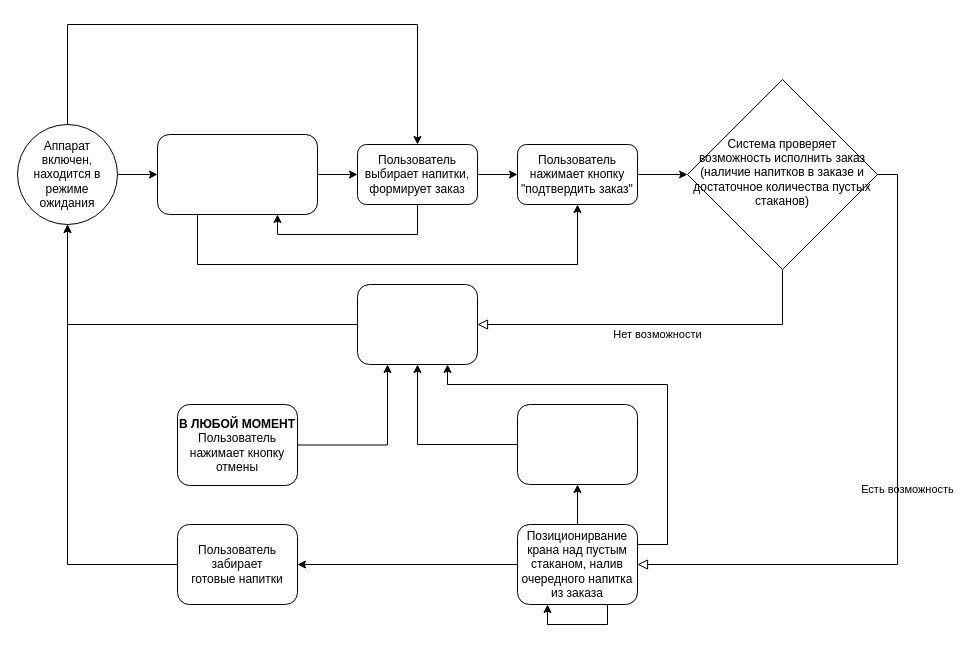
Image size: 971x650. Some labels were removed from this diagram. The centre of each missing label's shape, as x and y in pixels:
"Аварийное" состояние, выключение всего, парковка крана: point 417,324
Пользователь забирает стакан в процессе наливания: point 577,444
Пользователь обеспечивает наличие от одного до четырёх пустых стаканов: point 237,174
